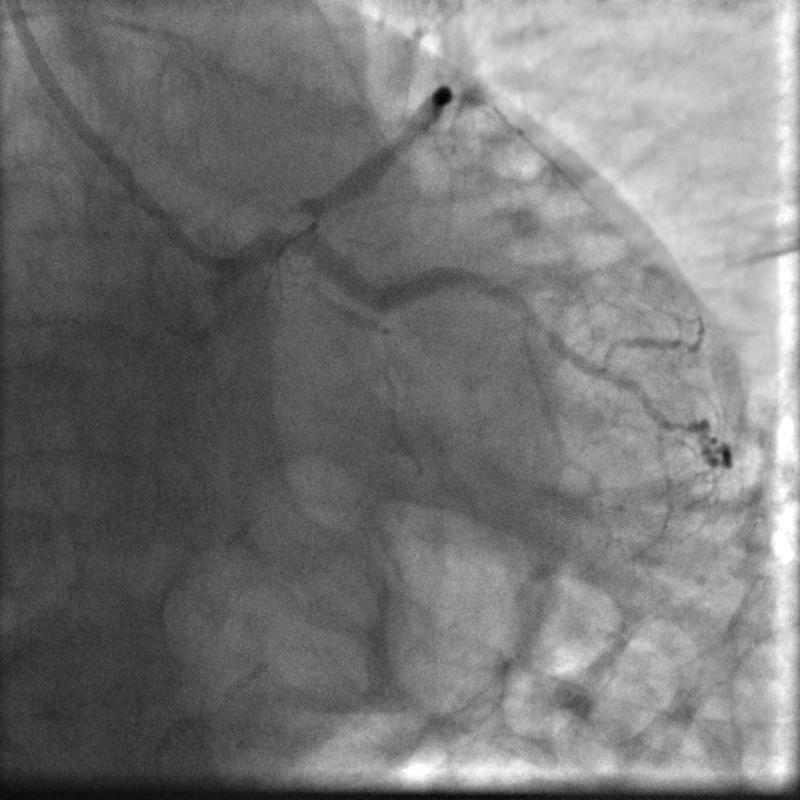Stenosis: (259, 197, 319, 250)
